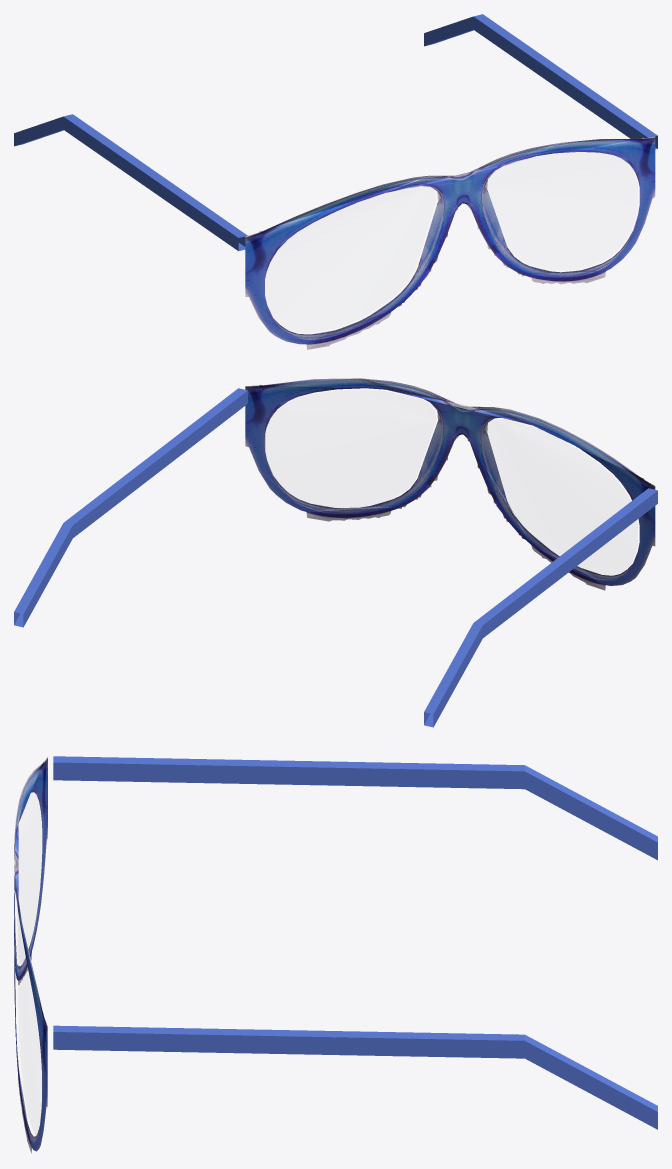
Rendered from gothamstyle-233_blue-black.glb.
The picture shows the model from 3 angles, top to bottom: view 1: azimuth 30°, elevation 25°; view 2: azimuth 150°, elevation 25°; view 3: azimuth 270°, elevation 25°; orthographic projection. The views are drawn at different scales.
Parts seen in each view (by area): view 1: frame_front, temple_viewer_left, temple_viewer_right; view 2: frame_front, temple_viewer_left, temple_viewer_right; view 3: temple_viewer_left, temple_viewer_right, frame_front.
Boxes of the visible parts, bbox=[...] form: frame_front: bbox=[245, 136, 655, 349]; temple_viewer_left: bbox=[14, 114, 247, 251]; temple_viewer_right: bbox=[424, 14, 657, 149]; frame_front: bbox=[245, 378, 655, 590]; temple_viewer_left: bbox=[424, 488, 657, 727]; temple_viewer_right: bbox=[14, 388, 247, 627]; temple_viewer_left: bbox=[53, 756, 657, 860]; temple_viewer_right: bbox=[53, 1025, 657, 1129]; frame_front: bbox=[14, 757, 47, 1153].
Size of the model in its own units: 0.1327 by 0.046 by 0.131.
3 materials, 2 textured.
